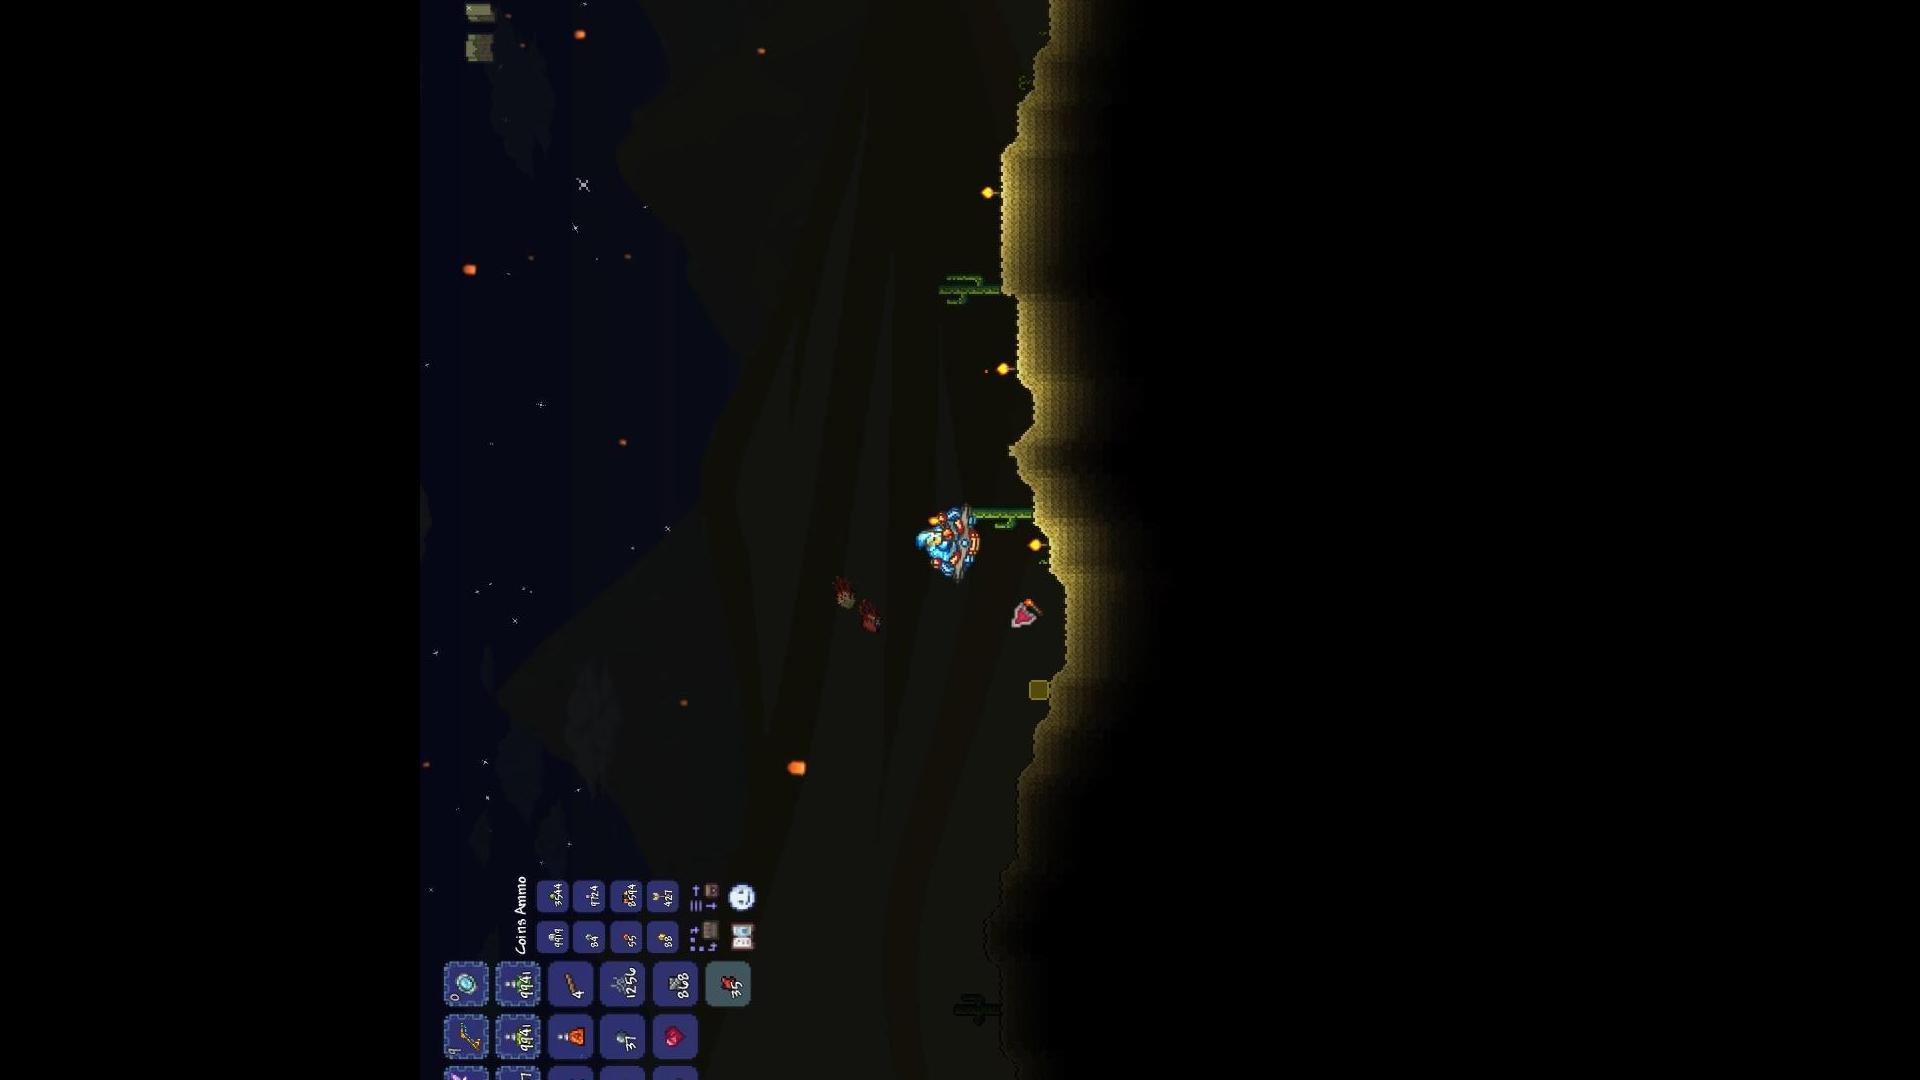eye: (855, 591, 890, 640), (824, 572, 860, 617)
mirror: (454, 972, 483, 997)
